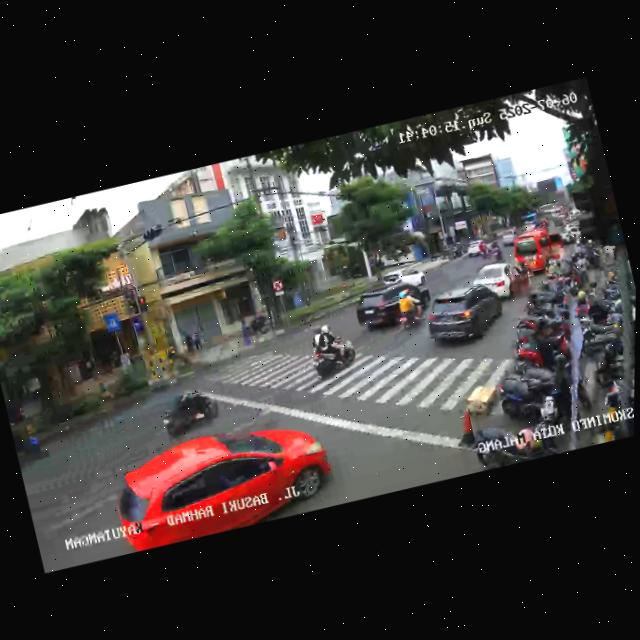car: (103, 406, 338, 557), (417, 275, 509, 357), (351, 273, 430, 339), (510, 223, 569, 279), (467, 257, 524, 306), (380, 260, 427, 293), (464, 238, 491, 260)
motorcycle: (154, 379, 226, 444), (304, 319, 361, 386), (391, 283, 424, 331)
